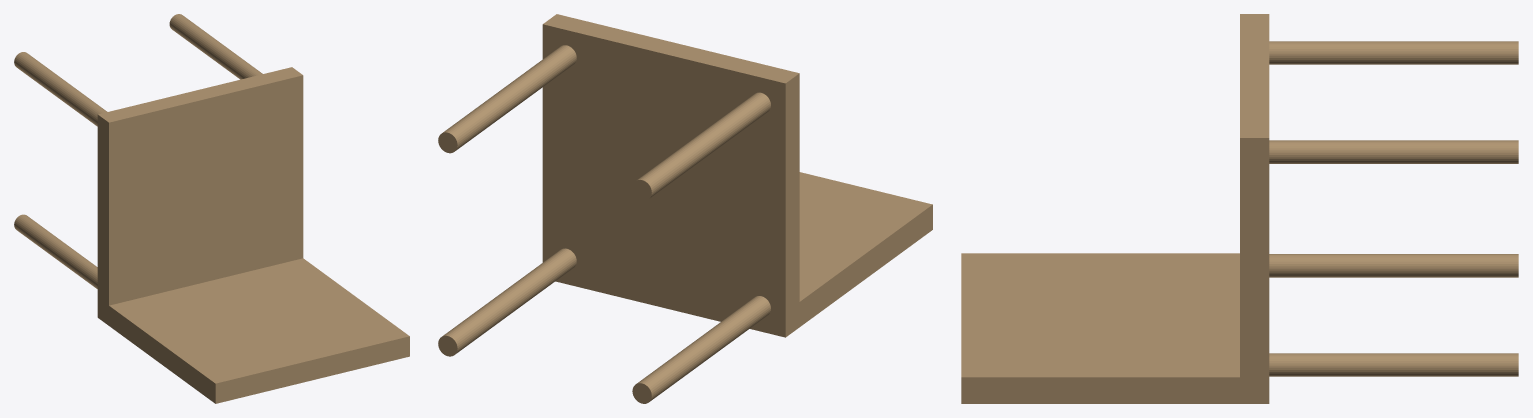
3 views of the same model, side by side, from view 1: azimuth 30°, elevation 25°; view 2: azimuth 150°, elevation 25°; view 3: azimuth 270°, elevation 25° (orthographic). The views are drawn at different scales.
Parts seen in each view (by area): view 1: geometry_0; view 2: geometry_0; view 3: geometry_0.
Part boxes in pixels (x1,y1,x2,y2): geometry_0: (14, 14, 409, 403); geometry_0: (438, 14, 932, 403); geometry_0: (961, 14, 1518, 403).
Bounding box in the file's own units: 0.5 × 0.5 × 0.95.
